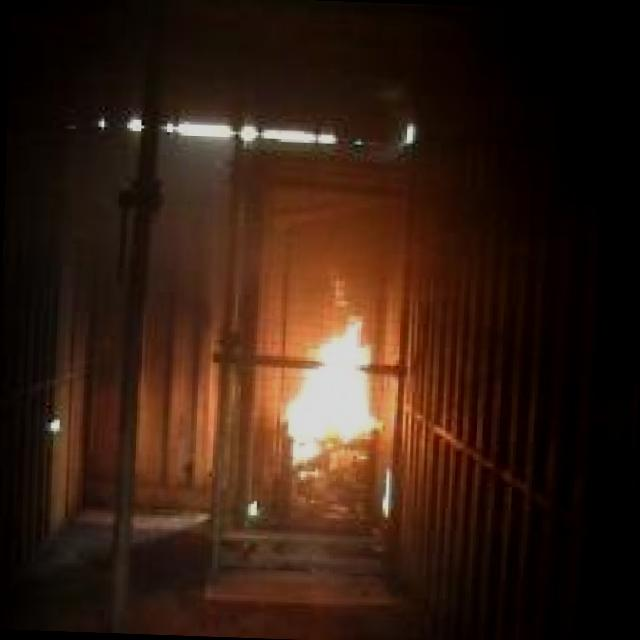fire: (274, 297, 388, 478)
